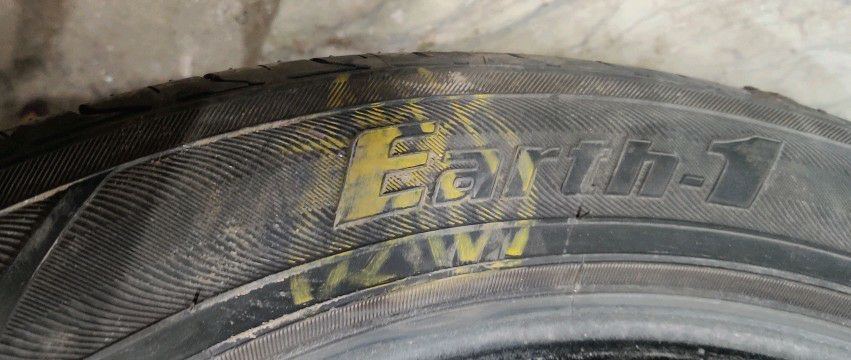CBU: (352, 106, 512, 264)
